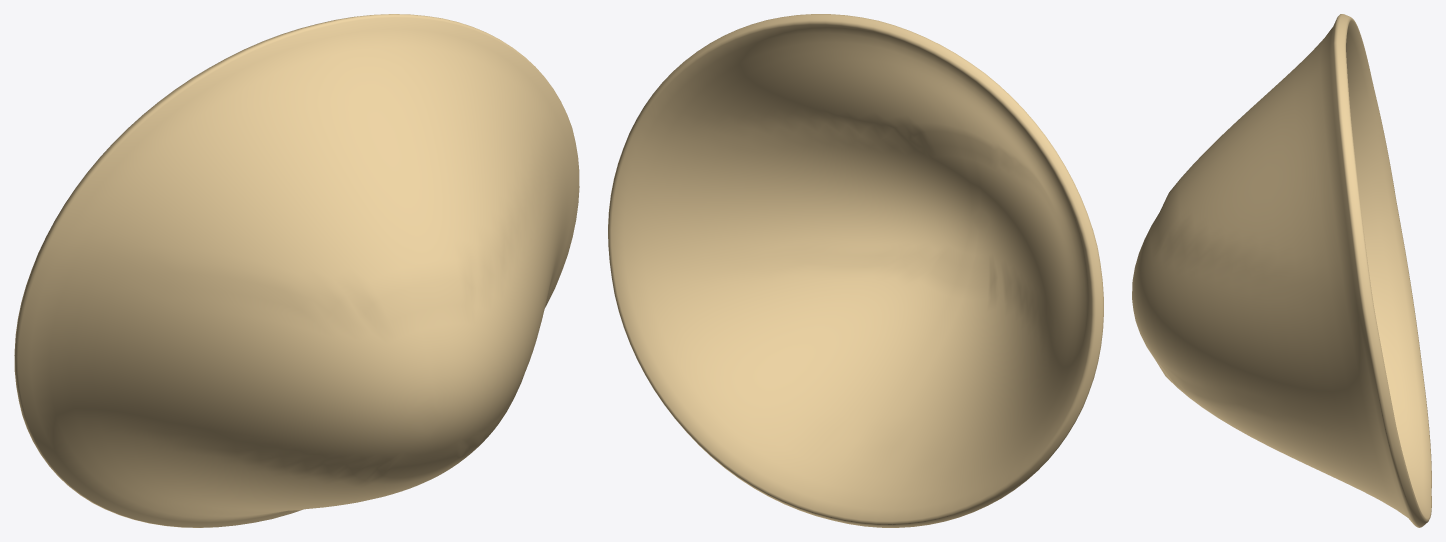
Rendered from Feminine-nose-button.glb.
The picture shows the model from 3 angles, left to right: view 1: azimuth 30°, elevation 25°; view 2: azimuth 150°, elevation 25°; view 3: azimuth 270°, elevation 25°; orthographic projection. The views are drawn at different scales.
Parts seen in each view (by area): view 1: Face / button nose; view 2: Face / button nose; view 3: Face / button nose.
Part boxes in pixels (x1,y1,x2,y2): Face / button nose: [14, 14, 579, 527]; Face / button nose: [608, 14, 1103, 527]; Face / button nose: [1132, 14, 1431, 527].
Bounding box in the file's own units: 0.0624 × 0.0564 × 0.0336.
